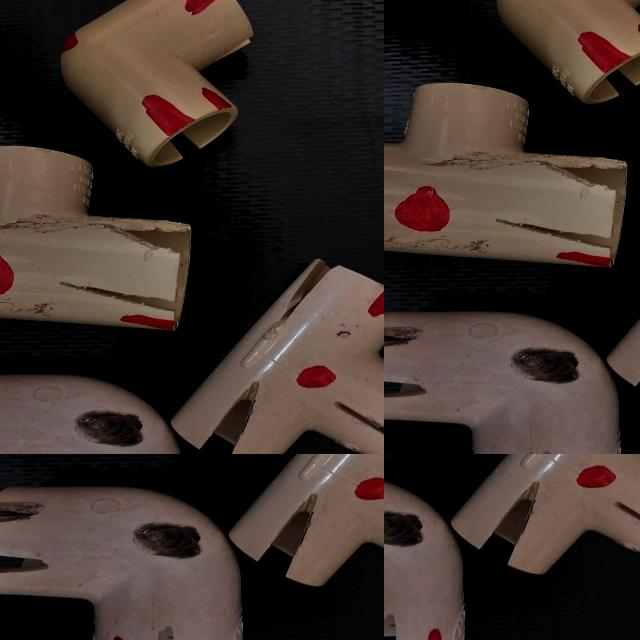Defective: (492, 492, 558, 550), (485, 514, 539, 548), (616, 497, 640, 546), (384, 515, 420, 547), (506, 484, 546, 508), (577, 467, 615, 490)
L Joint: (384, 482, 466, 640)
T Joint: (450, 454, 640, 579)
